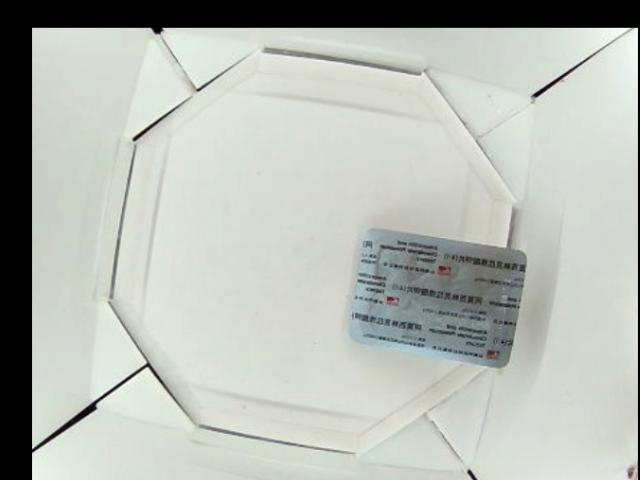Medicine: (348, 227, 529, 369)
